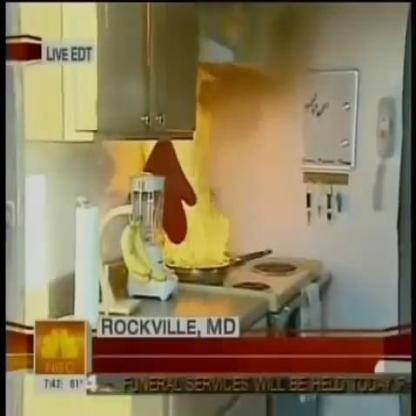fire: (158, 114, 232, 272)
